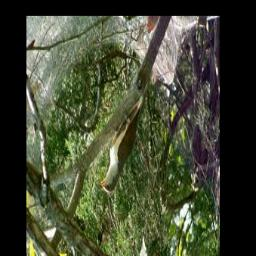Cuckoo: (99, 72, 153, 197)
